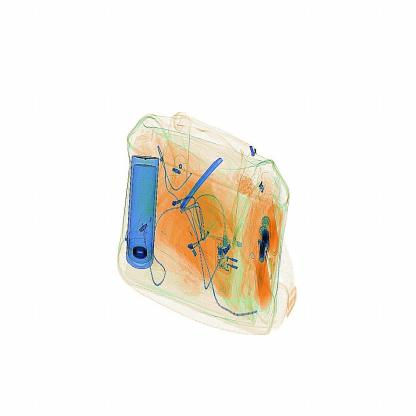pliers: (176, 142, 232, 219)
